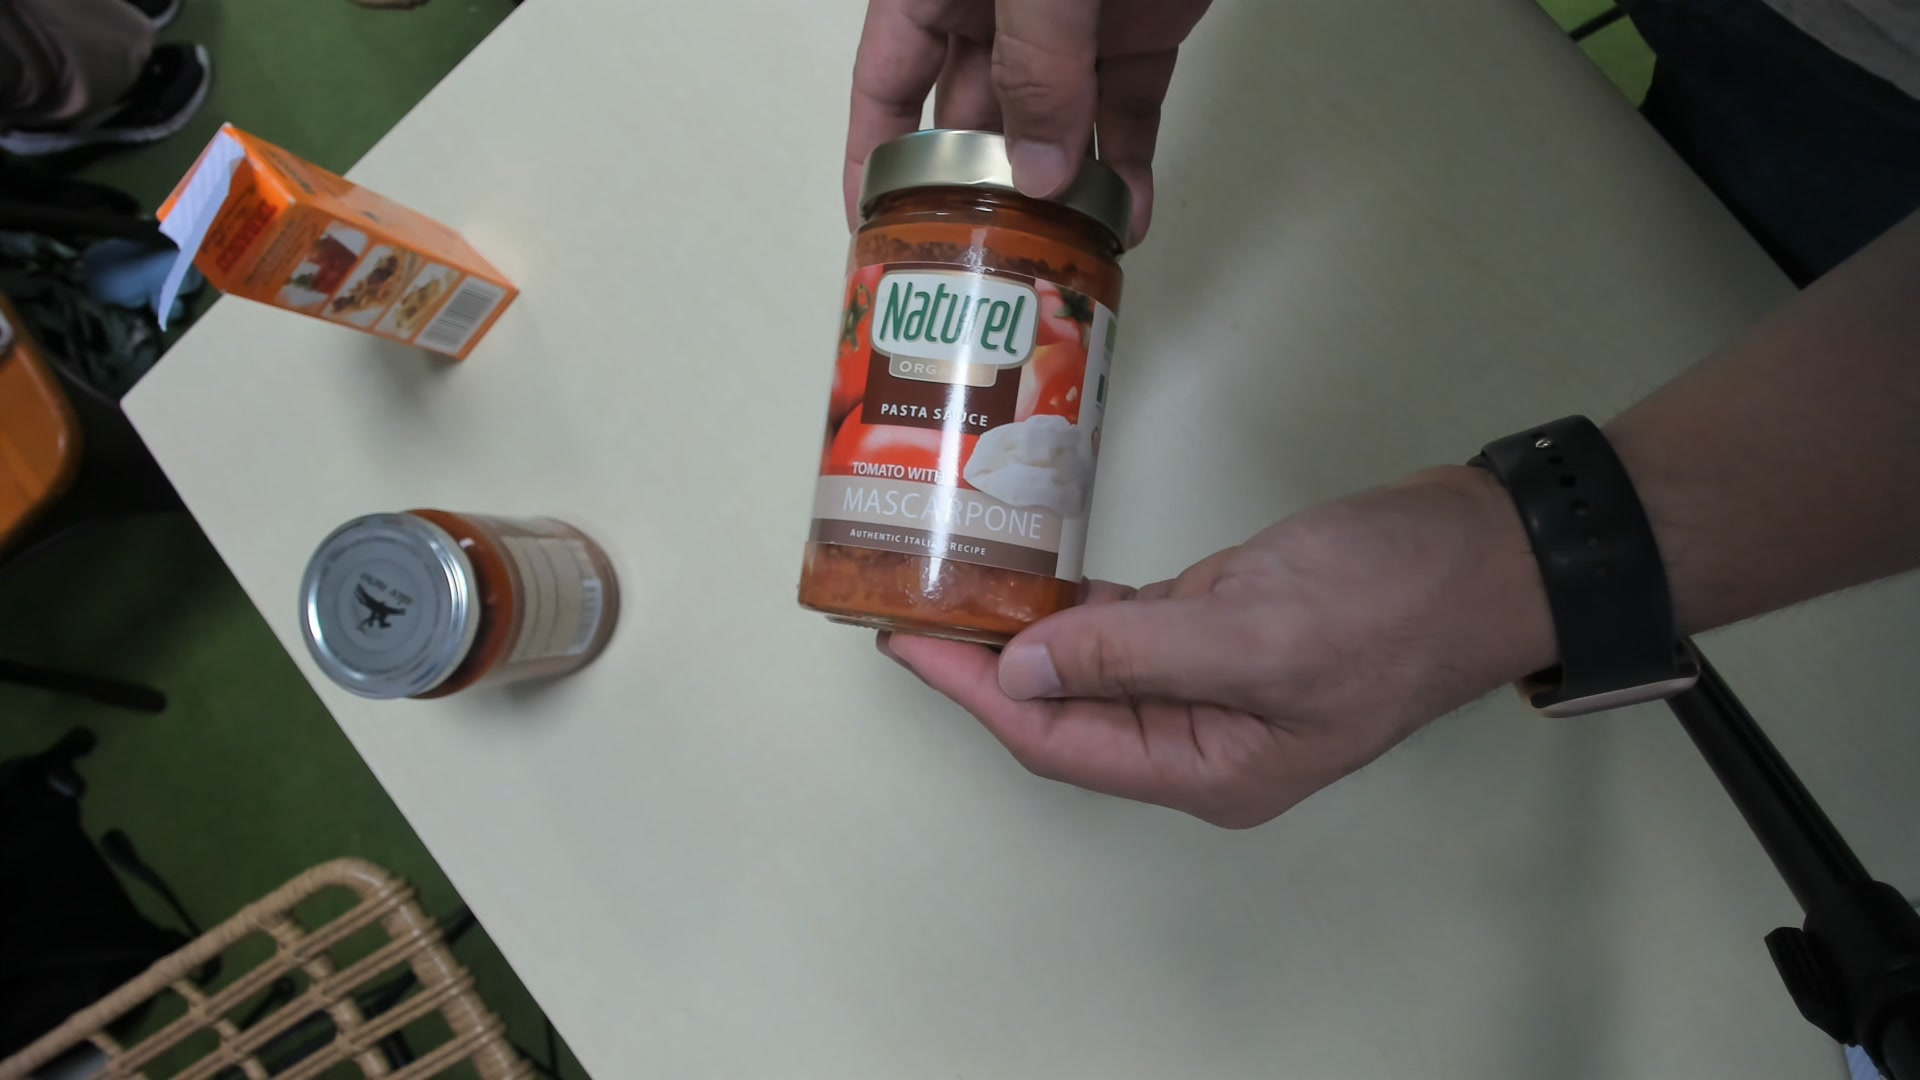PastaSauce_300-399g_NonHalal_NonHealthy: (790, 127, 1127, 653)
